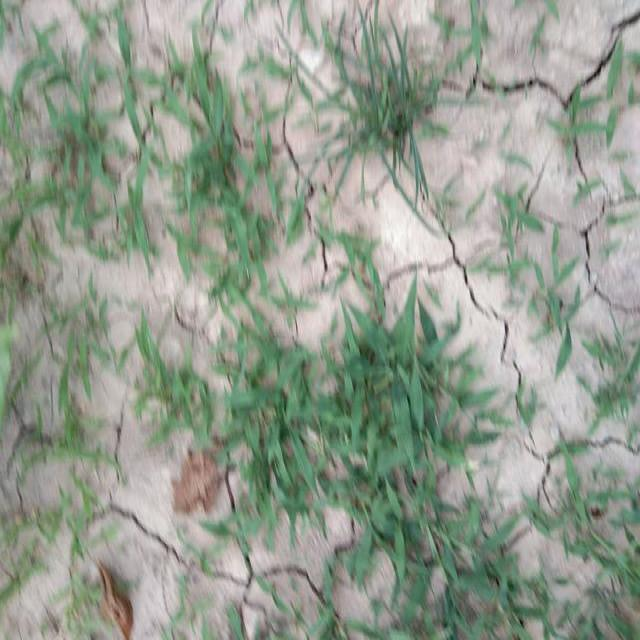weed: (344, 298, 498, 620), (158, 43, 266, 297), (228, 331, 340, 534), (323, 31, 444, 179)
